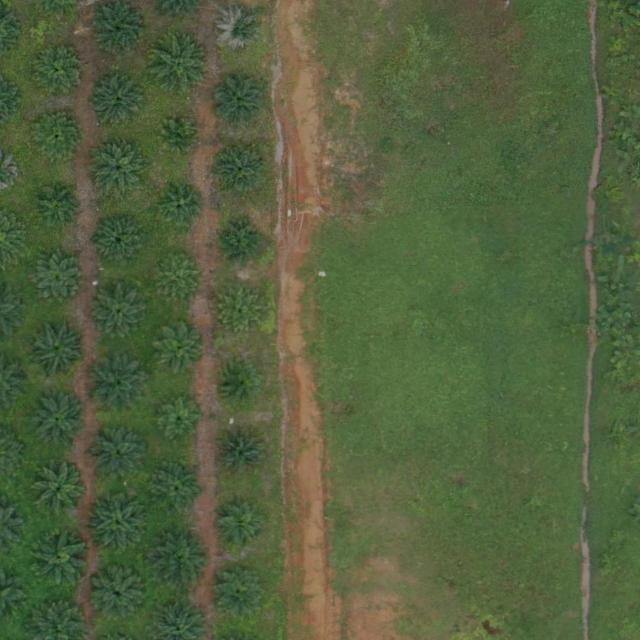Kelapa_Sawit: (84, 353, 146, 416), (24, 248, 86, 311), (24, 316, 86, 379), (150, 34, 212, 96), (148, 529, 210, 591), (85, 490, 147, 552), (27, 526, 89, 588), (30, 177, 85, 232), (212, 501, 267, 556), (31, 46, 86, 101), (29, 110, 84, 165), (93, 215, 148, 270), (211, 74, 266, 129), (212, 143, 267, 198), (151, 461, 206, 516), (90, 286, 145, 341), (89, 426, 144, 481), (91, 568, 146, 623), (150, 319, 204, 374), (214, 426, 268, 481), (91, 2, 145, 57), (90, 74, 144, 129), (91, 143, 145, 198), (30, 394, 84, 449), (32, 463, 86, 518), (212, 564, 266, 619), (217, 6, 263, 53), (158, 184, 204, 230), (157, 397, 203, 443), (214, 286, 260, 332), (219, 218, 265, 264), (153, 253, 199, 299), (218, 363, 257, 402), (160, 118, 199, 157)
